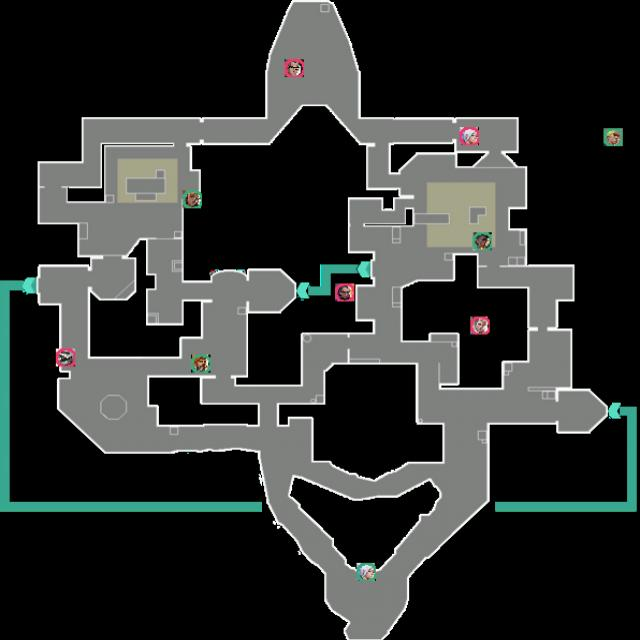atk_chamber: (284, 59, 304, 77)
atk_cypher: (56, 348, 75, 366)
atk_jett: (460, 127, 479, 145)
atk_reyna: (335, 284, 354, 302)
atk_sova: (470, 316, 490, 334)
def_brimstone: (191, 354, 211, 372)
def_gekko: (603, 128, 623, 146)
def_jett: (356, 563, 376, 581)
def_phoenix: (472, 232, 492, 250)
def_raze: (182, 190, 202, 208)
